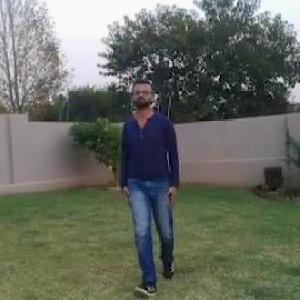follow: (118, 71, 181, 286)
